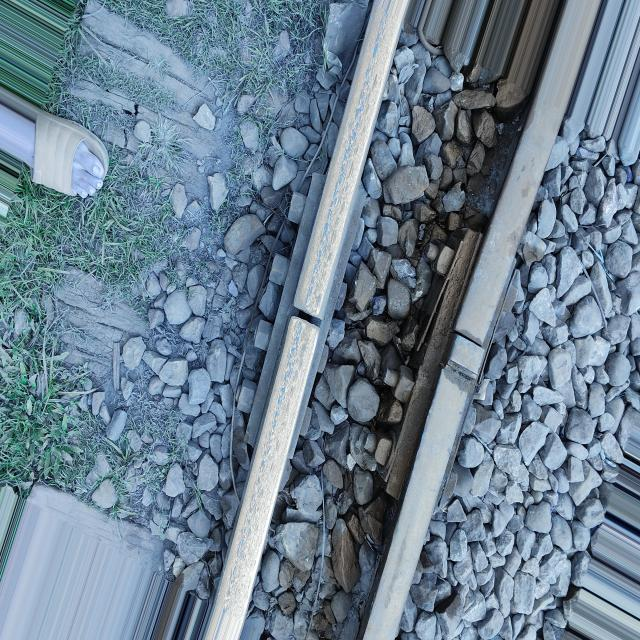Defective Joint: (386, 229, 509, 514)
Good Joint: (233, 173, 366, 470)
